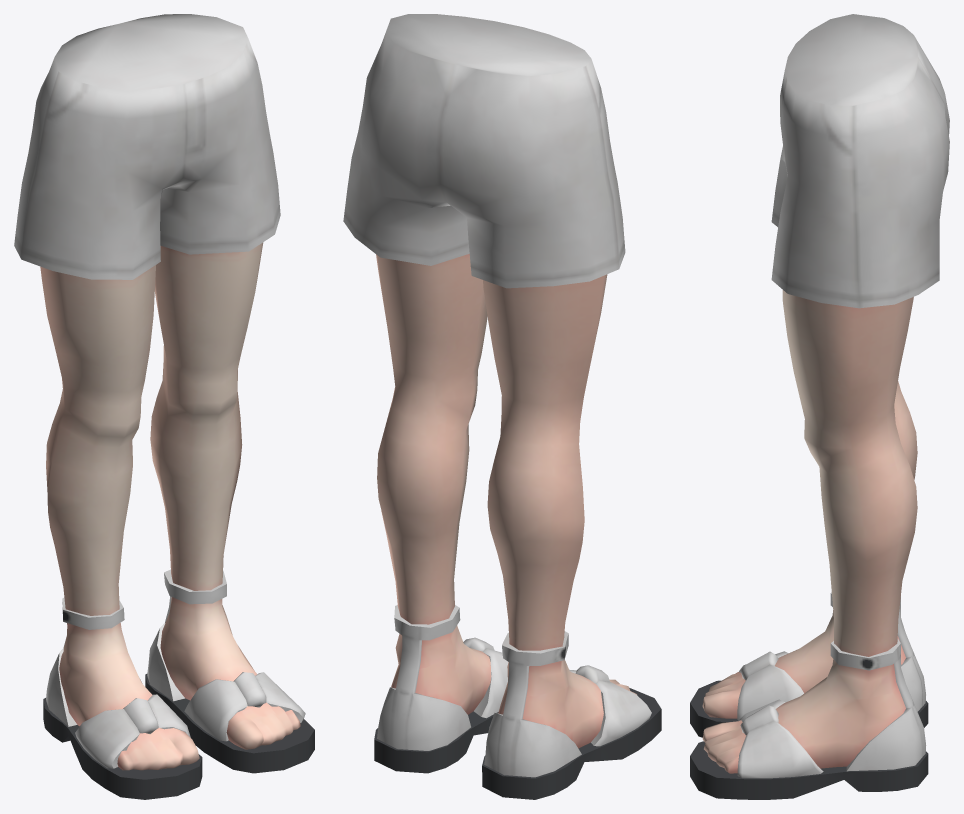
Rendered from tr0770_00_lwb01.gltf.
3 views of the same model, side by side, from view 1: azimuth 30°, elevation 25°; view 2: azimuth 150°, elevation 25°; view 3: azimuth 270°, elevation 25° (orthographic). The views are drawn at different scales.
Visible parts, largest first — view 1: lwb01_lowerskin_mesh_shape:lowerbody01_skin, lwb01_lowerbody_mesh_shape:lowerbody01, lwb01_shoes_mesh_shape:lowerbody01; view 2: lwb01_lowerskin_mesh_shape:lowerbody01_skin, lwb01_lowerbody_mesh_shape:lowerbody01, lwb01_shoes_mesh_shape:lowerbody01; view 3: lwb01_lowerskin_mesh_shape:lowerbody01_skin, lwb01_lowerbody_mesh_shape:lowerbody01, lwb01_shoes_mesh_shape:lowerbody01.
Boxes of the visible parts, x1,y1,x2,y2 form: lwb01_lowerskin_mesh_shape:lowerbody01_skin: (40, 242, 300, 770); lwb01_lowerbody_mesh_shape:lowerbody01: (14, 14, 280, 279); lwb01_shoes_mesh_shape:lowerbody01: (43, 569, 314, 799); lwb01_lowerskin_mesh_shape:lowerbody01_skin: (376, 254, 636, 748); lwb01_lowerbody_mesh_shape:lowerbody01: (343, 14, 625, 288); lwb01_shoes_mesh_shape:lowerbody01: (374, 605, 661, 799); lwb01_lowerskin_mesh_shape:lowerbody01_skin: (702, 290, 917, 773); lwb01_lowerbody_mesh_shape:lowerbody01: (771, 14, 949, 308); lwb01_shoes_mesh_shape:lowerbody01: (690, 592, 928, 799).
Size of what is drawn, in the model's own units: 0.3726 by 0.9523 by 0.3236.
2 materials, 2 textured.
